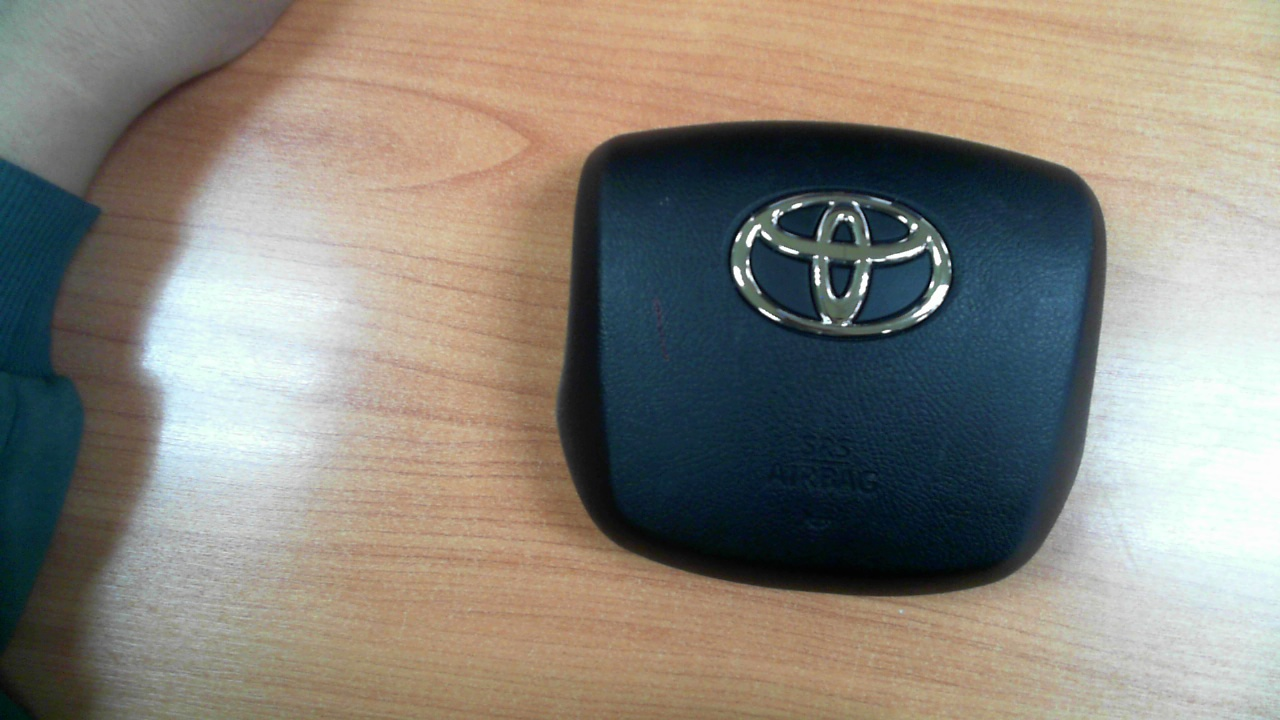Airbag: (557, 125, 1111, 591)
Toyota: (736, 191, 956, 335)
